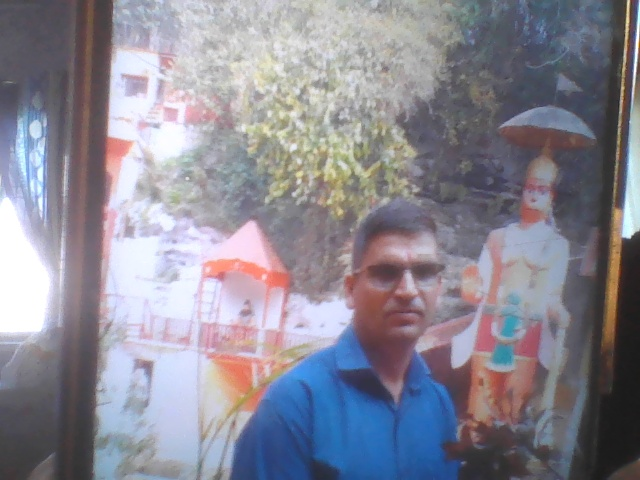fake: (344, 187, 468, 363)
